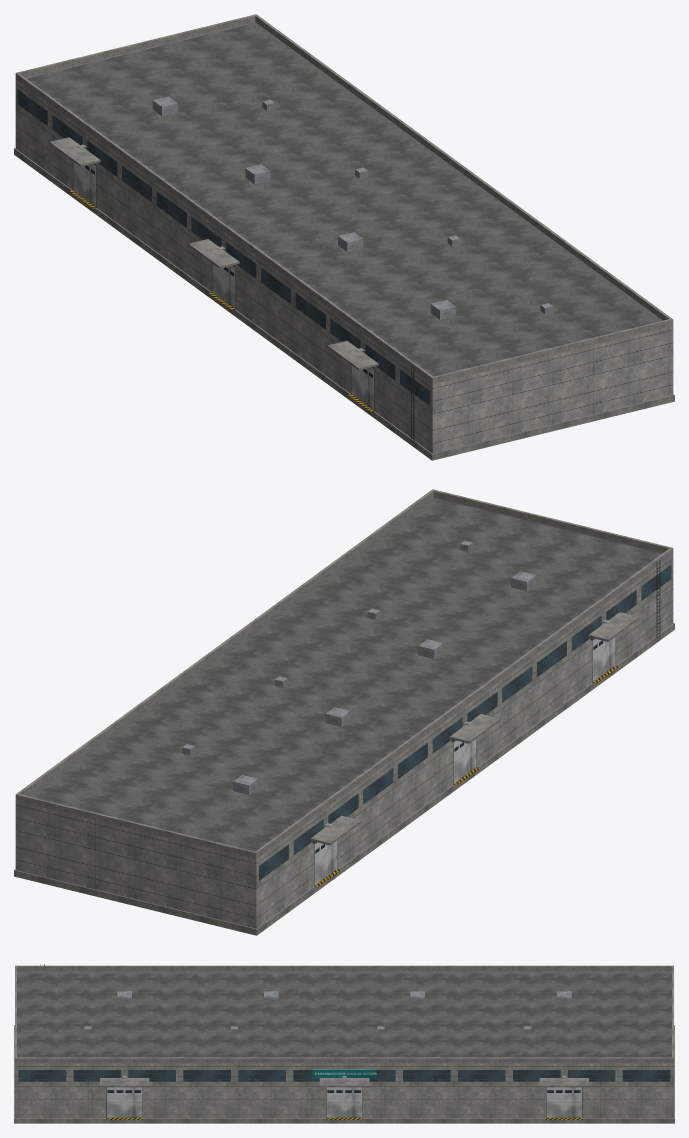
The model's file is wh_panel.glb.
The picture shows the model from 3 angles, top to bottom: view 1: azimuth 30°, elevation 25°; view 2: azimuth 150°, elevation 25°; view 3: azimuth 270°, elevation 25°; orthographic projection. The views are drawn at different scales.
Parts seen in each view (by area): view 1: body|props; view 2: body|props; view 3: body|props.
Part boxes in pixels (x1=…): body|props: x1=14, y1=14, x2=674, y2=460; body|props: x1=14, y1=489, x2=674, y2=935; body|props: x1=14, y1=964, x2=674, y2=1123.
Size of the model in its own units: 28 by 8.05 by 72.2.
1 material, 1 textured.
